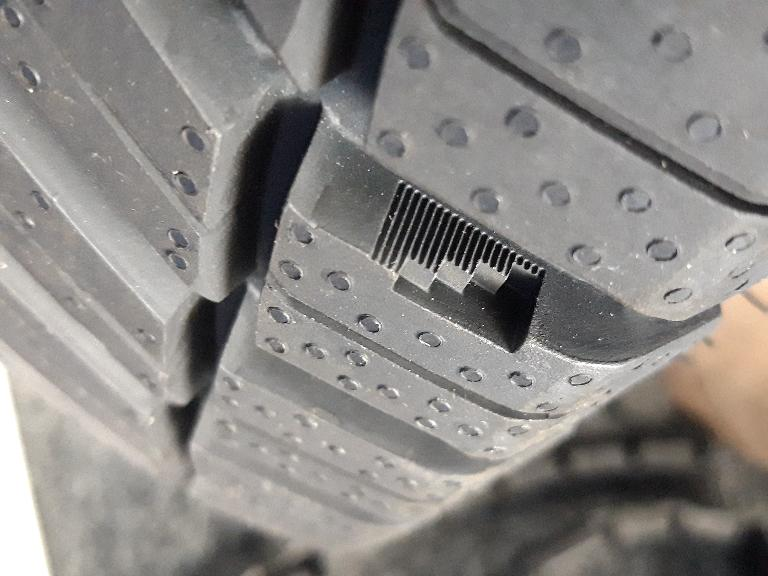temoin:100: (360, 171, 558, 362)
